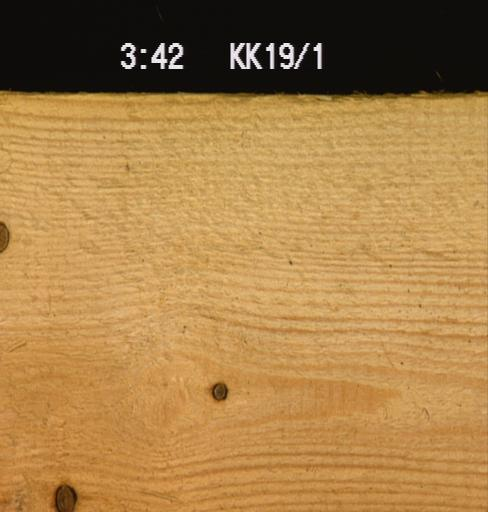dry_knot: (209, 380, 228, 401), (0, 219, 9, 255)
edge_knot: (51, 481, 77, 511)
